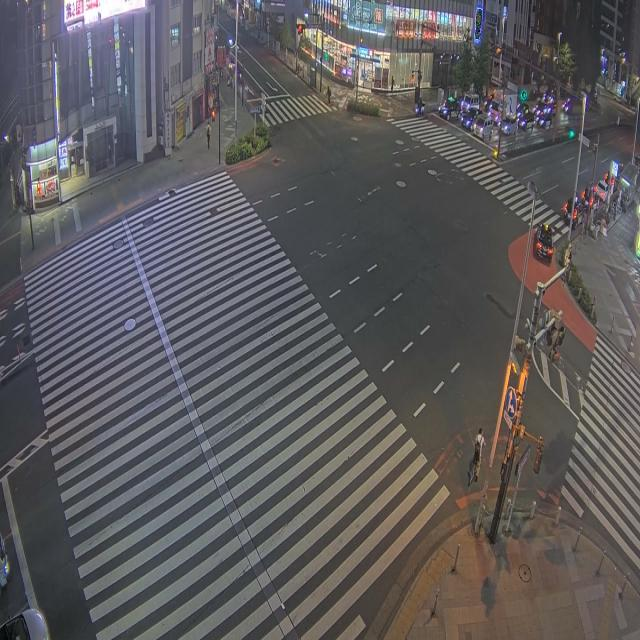car: (0, 609, 48, 639), (534, 224, 553, 261), (562, 199, 584, 226), (438, 97, 460, 119), (460, 107, 481, 130), (500, 114, 517, 135), (532, 101, 551, 119), (486, 101, 501, 122), (518, 112, 534, 130), (593, 181, 606, 201), (536, 113, 552, 129), (532, 101, 545, 119), (516, 102, 529, 118)
motorcycle: (0, 536, 8, 588)
van: (472, 114, 493, 139), (460, 94, 479, 111)
